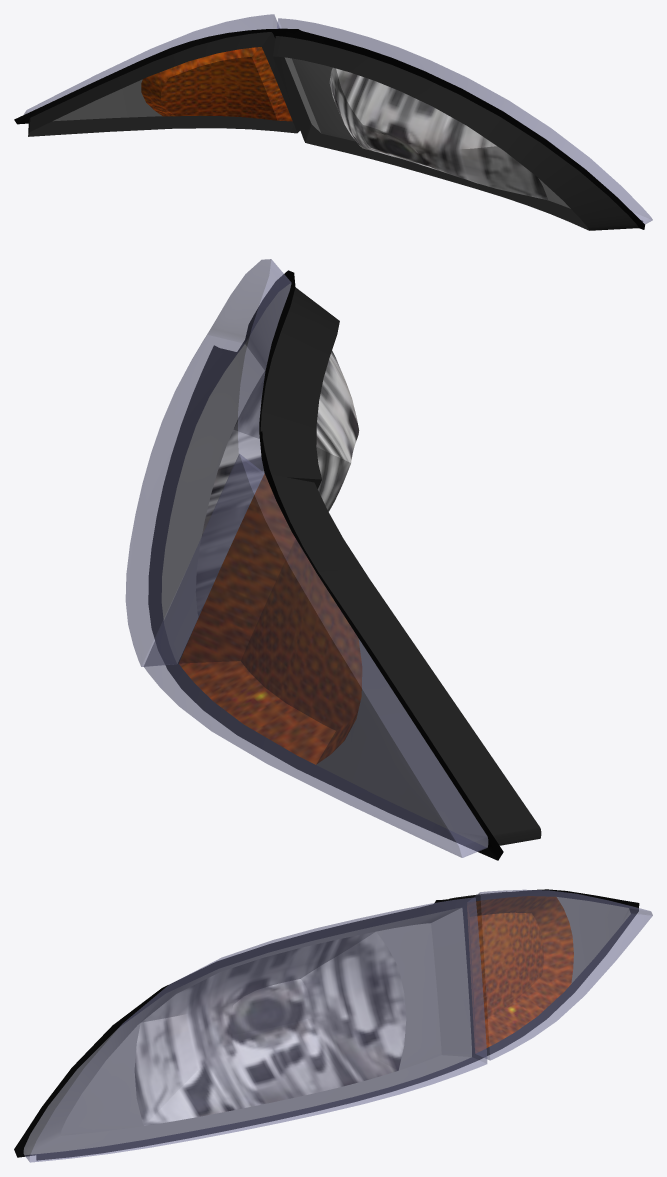
3 renders of one model, top to bottom at view 1: azimuth 30°, elevation 25°; view 2: azimuth 150°, elevation 25°; view 3: azimuth 270°, elevation 25°, orthographic. The views are drawn at different scales.
Visible parts, largest first — view 1: U234_061B_L_1_D_U234_061B_L, U234_061B_L_U234_061B_L_4_N, U234_061B_L_U234_061B_L_3_N, U234_061B_L_U234_061B_L_6_DTaSI, U234_061B_L_U234_061B_L_2_DaS, U234_061B_L_U234_061B_L_7_D, U234_061B_L_U234_061B_L_5_DTaSI; view 2: U234_061B_L_U234_061B_L_5_DTaSI, U234_061B_L_U234_061B_L_3_N, U234_061B_L_U234_061B_L_6_DTaSI, U234_061B_L_1_D_U234_061B_L, U234_061B_L_U234_061B_L_2_DaS, U234_061B_L_U234_061B_L_7_D, U234_061B_L_U234_061B_L_4_N; view 3: U234_061B_L_U234_061B_L_6_DTaSI, U234_061B_L_U234_061B_L_4_N, U234_061B_L_U234_061B_L_2_DaS, U234_061B_L_U234_061B_L_5_DTaSI, U234_061B_L_U234_061B_L_3_N, U234_061B_L_U234_061B_L_7_D.
Boxes of the visible parts, x1=… form: U234_061B_L_1_D_U234_061B_L: x1=28, y1=32, x2=638, y2=230; U234_061B_L_U234_061B_L_4_N: x1=329, y1=67, x2=547, y2=200; U234_061B_L_U234_061B_L_3_N: x1=141, y1=47, x2=292, y2=121; U234_061B_L_U234_061B_L_6_DTaSI: x1=277, y1=18, x2=652, y2=224; U234_061B_L_U234_061B_L_2_DaS: x1=53, y1=57, x2=570, y2=208; U234_061B_L_U234_061B_L_7_D: x1=14, y1=28, x2=644, y2=229; U234_061B_L_U234_061B_L_5_DTaSI: x1=24, y1=14, x2=279, y2=114; U234_061B_L_U234_061B_L_5_DTaSI: x1=144, y1=454, x2=487, y2=857; U234_061B_L_U234_061B_L_3_N: x1=179, y1=474, x2=362, y2=764; U234_061B_L_U234_061B_L_6_DTaSI: x1=125, y1=259, x2=291, y2=666; U234_061B_L_1_D_U234_061B_L: x1=260, y1=287, x2=541, y2=845; U234_061B_L_U234_061B_L_2_DaS: x1=161, y1=283, x2=488, y2=847; U234_061B_L_U234_061B_L_7_D: x1=148, y1=270, x2=503, y2=860; U234_061B_L_U234_061B_L_4_N: x1=196, y1=350, x2=359, y2=612; U234_061B_L_U234_061B_L_6_DTaSI: x1=24, y1=897, x2=487, y2=1162; U234_061B_L_U234_061B_L_4_N: x1=134, y1=931, x2=406, y2=1125; U234_061B_L_U234_061B_L_2_DaS: x1=23, y1=897, x2=630, y2=1154; U234_061B_L_U234_061B_L_5_DTaSI: x1=468, y1=889, x2=652, y2=1060; U234_061B_L_U234_061B_L_3_N: x1=467, y1=896, x2=573, y2=1052; U234_061B_L_U234_061B_L_7_D: x1=14, y1=889, x2=639, y2=1160.
Size of the model in its own units: 51.2 by 15.94 by 57.66.
